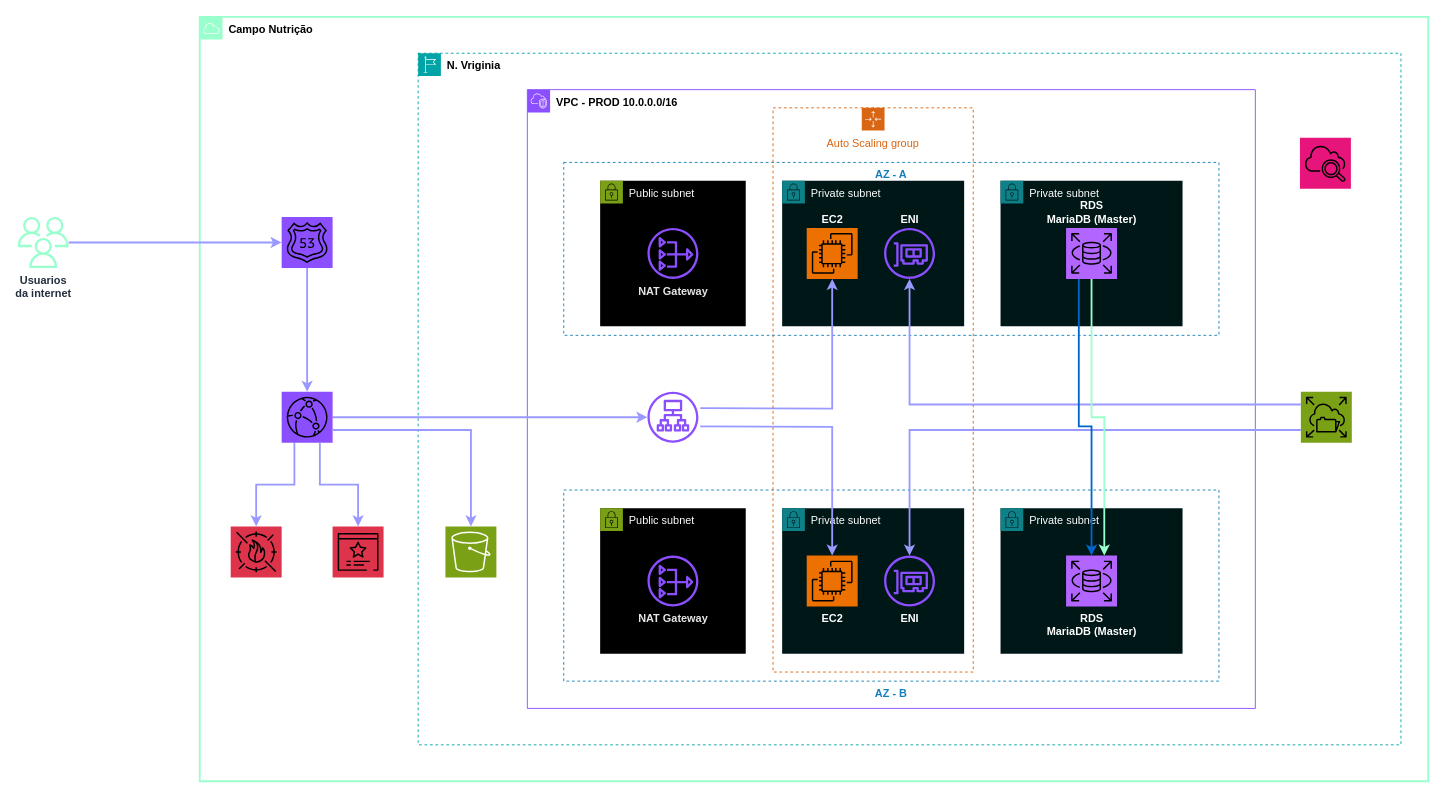
Image size: 1445x797. Some labels were removed from this diagram. The centre of each missing label's shape, as x and y in pixels:
Application Load Balancer: the point at 672,416
Certificate Manager: the point at 358,551
CloudFront: the point at 307,417
CloudWatch: the point at 1325,163
EFS: the point at 1326,417
Route 53: the point at 307,242
S3: the point at 470,551
WAF: the point at 256,551
